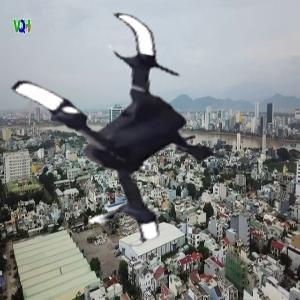drone: (1, 10, 257, 266)
